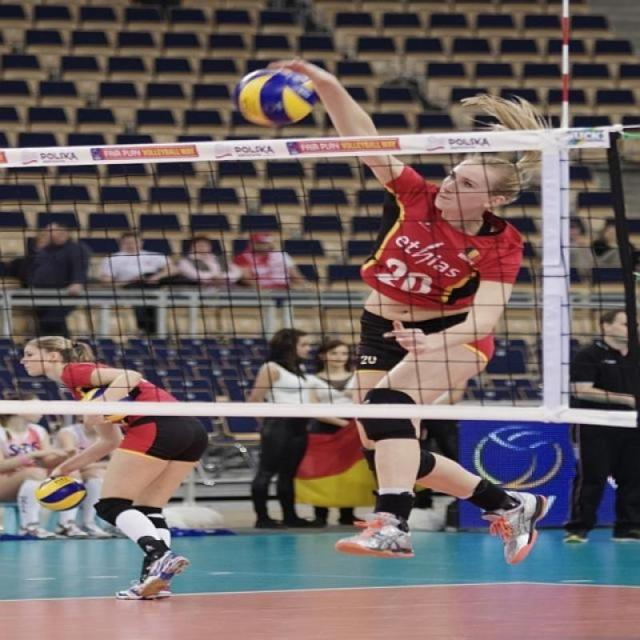volleyball: (229, 64, 320, 124), (33, 472, 89, 512)
